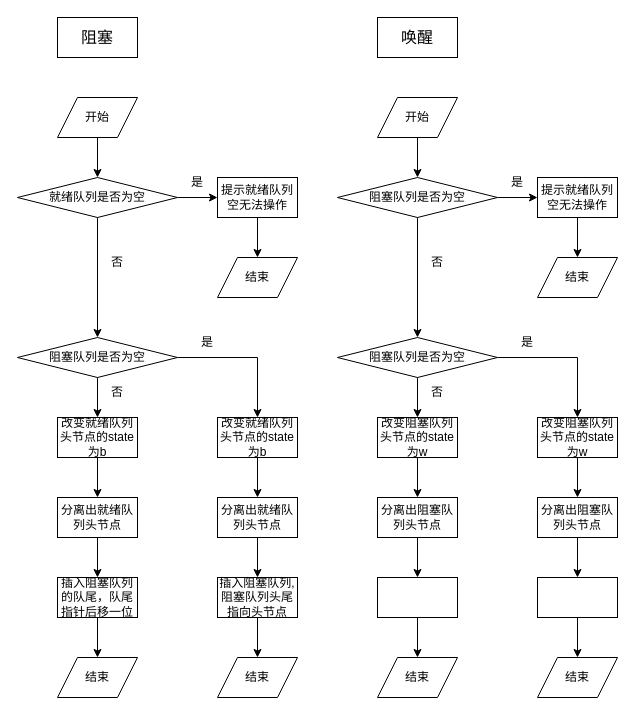
The diagram is 635 pixels wide and 715 high, and some of its shapes have lost their labels. The centre of each missing label's shape, as x and y in pixels:
"插入就绪队列,就绪队列头尾指向头节点" belongs at point (577, 597).
"插入就绪队列的队尾，队尾指针后移一位" belongs at point (417, 597).
